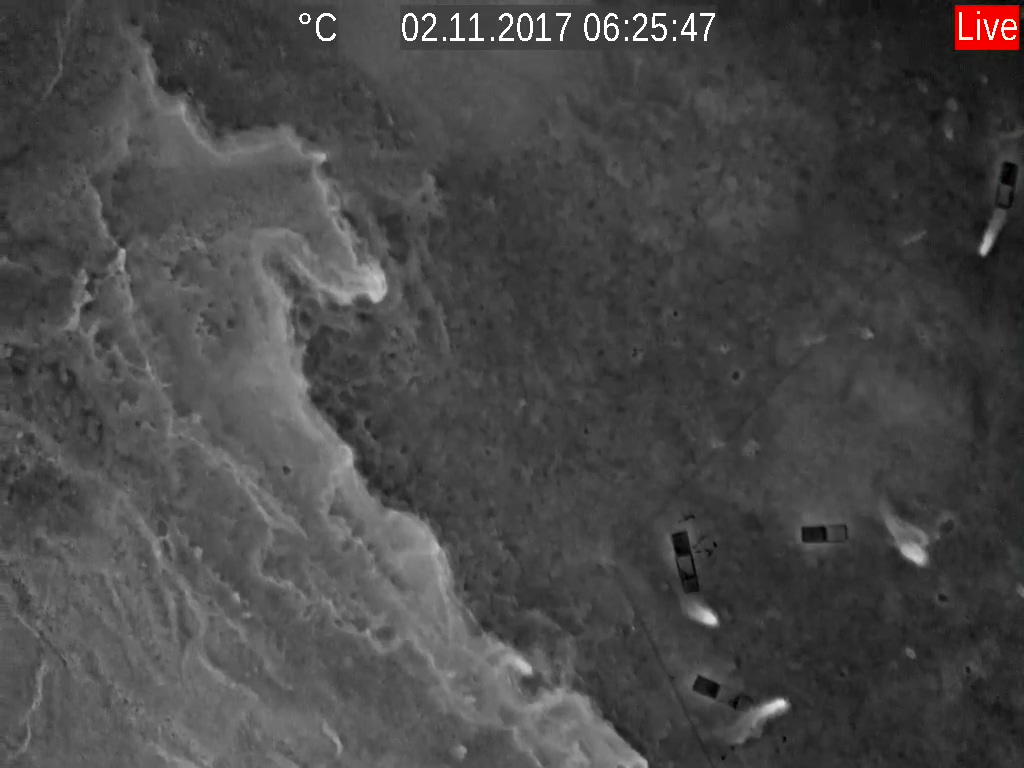warren: (737, 687, 794, 747), (881, 501, 931, 568), (674, 598, 726, 636), (971, 203, 1006, 258)
